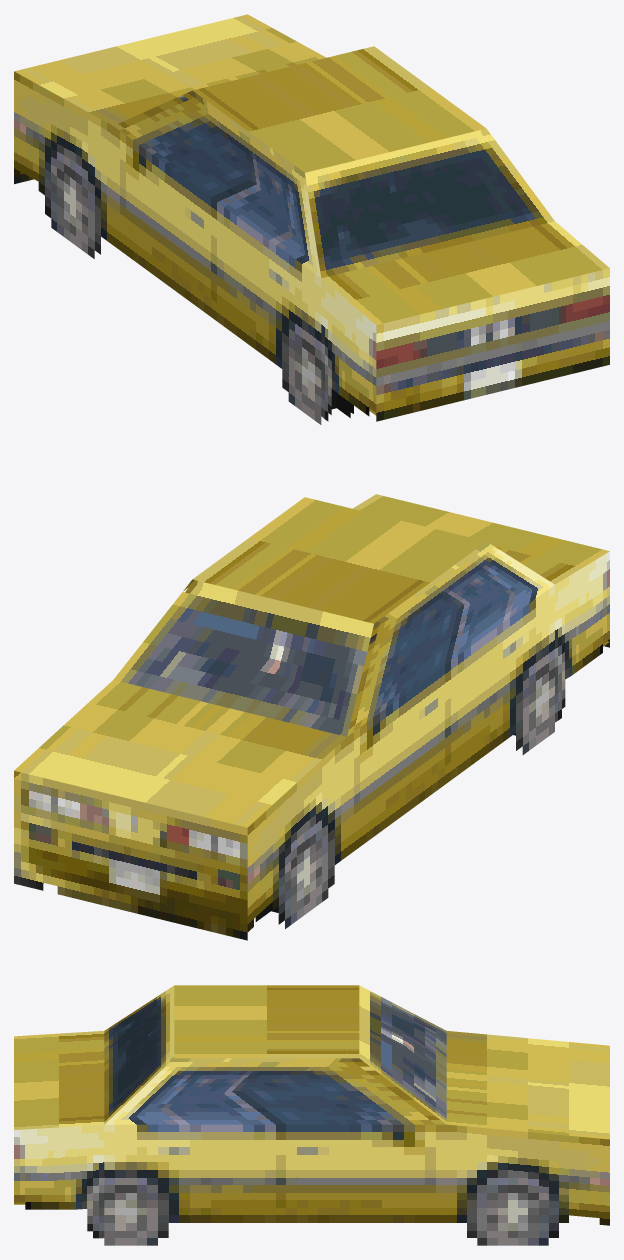
File: car-sunbird-plt2.glb
3 renders of one model, top to bottom at view 1: azimuth 30°, elevation 25°; view 2: azimuth 150°, elevation 25°; view 3: azimuth 270°, elevation 25°, orthographic. The views are drawn at different scales.
Parts seen in each view (by area): view 1: car-sunbird-plt2; view 2: car-sunbird-plt2; view 3: car-sunbird-plt2.
Part boxes in pixels (x1=…): car-sunbird-plt2: x1=14, y1=14, x2=609, y2=424; car-sunbird-plt2: x1=14, y1=494, x2=609, y2=940; car-sunbird-plt2: x1=14, y1=985, x2=609, y2=1245.
Bounding box in the file's own units: 1.69 × 1.48 × 4.53.
16 materials, 16 textured.
